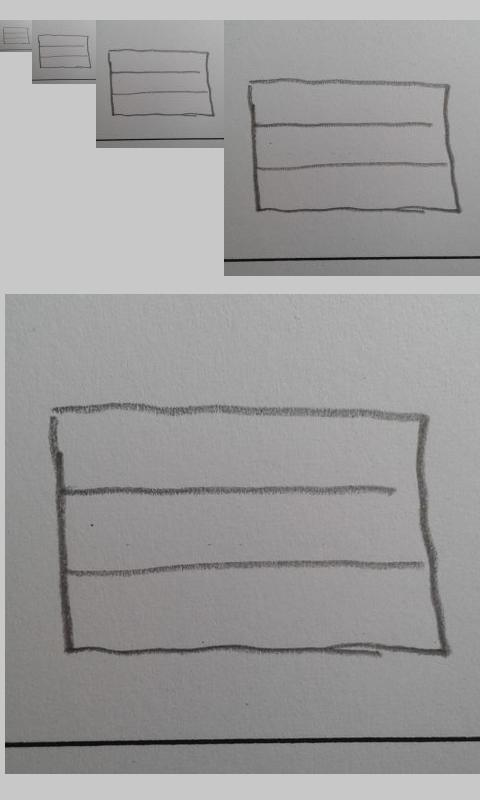list_view: (47, 402, 449, 662), (243, 74, 463, 222), (108, 48, 214, 117), (37, 34, 92, 70), (2, 26, 30, 45)
